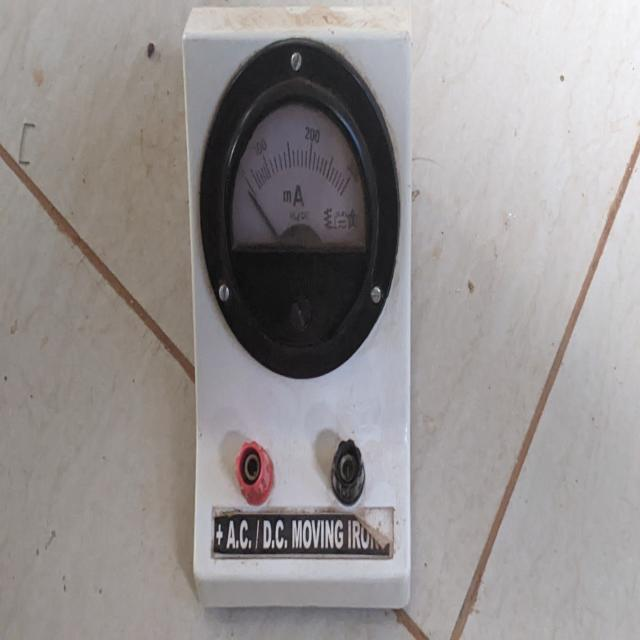Ammeter Analog: (178, 19, 422, 577)
